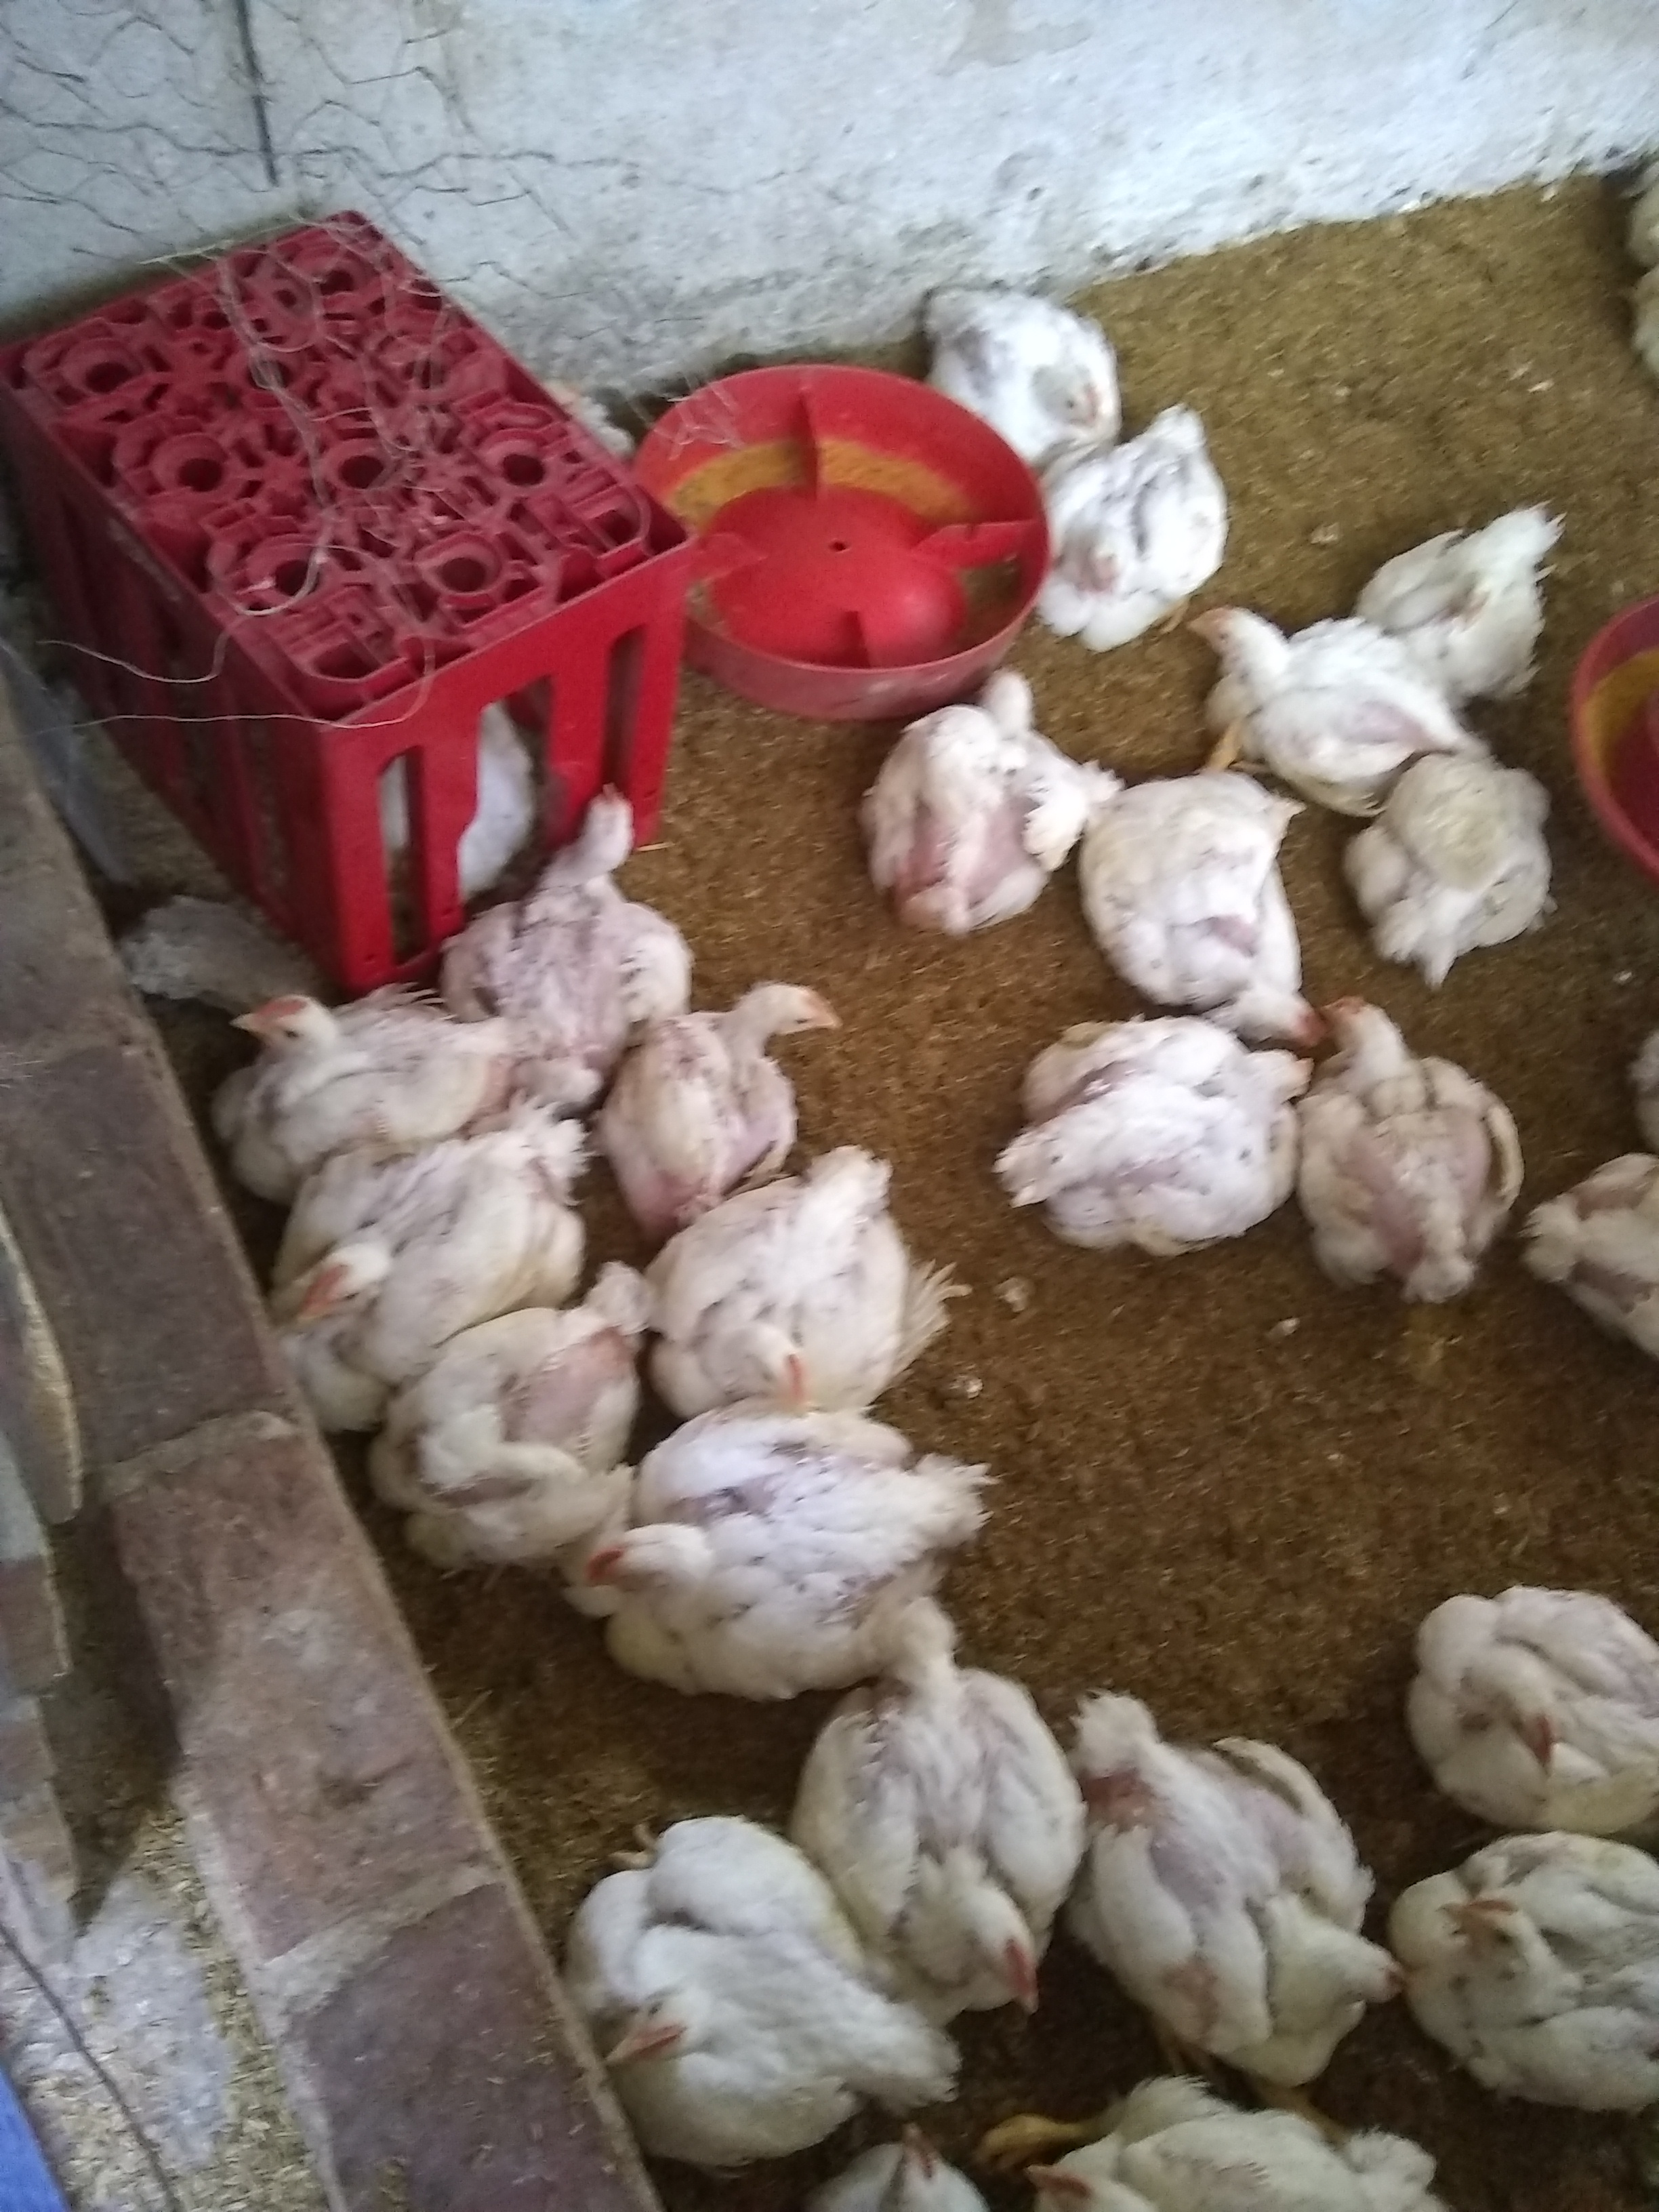Pollos: (1072, 1674, 1403, 2076), (519, 1843, 878, 2168), (805, 1663, 1082, 2013), (589, 1447, 964, 1688), (268, 1169, 565, 1413), (1009, 998, 1297, 1249), (1436, 1815, 1659, 2125), (1302, 982, 1513, 1301), (382, 1292, 627, 1555), (653, 1183, 925, 1414), (1412, 1562, 1650, 1818), (462, 786, 690, 1050), (612, 984, 859, 1209), (863, 671, 1073, 920), (199, 970, 488, 1150), (1096, 759, 1295, 1019), (1018, 2090, 1436, 2212), (1366, 496, 1589, 707), (1035, 420, 1248, 636), (1356, 754, 1563, 975), (1204, 590, 1412, 799), (910, 279, 1117, 446), (1523, 1150, 1656, 1400), (829, 2076, 993, 2212)
